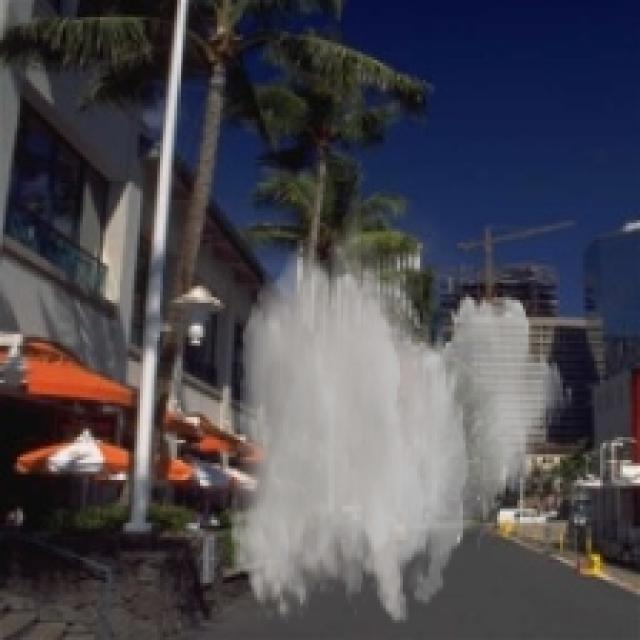Smoke: (228, 203, 574, 626)
